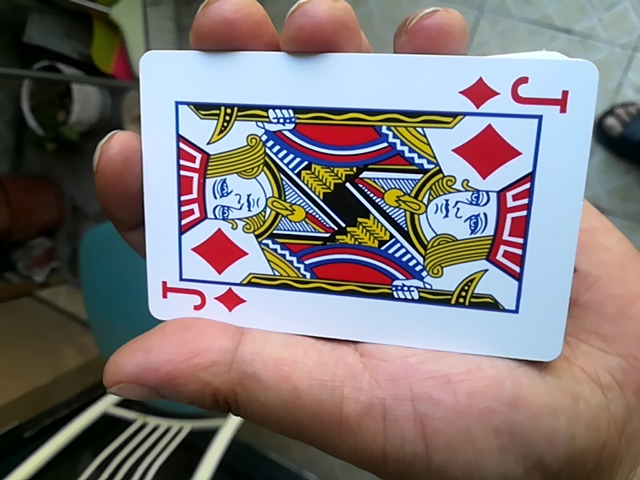fk j: (126, 51, 584, 351)
